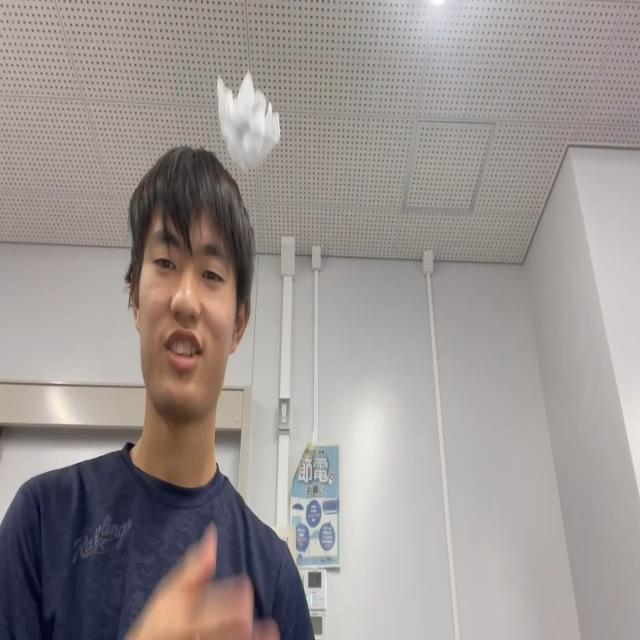paper: (217, 75, 282, 167)
